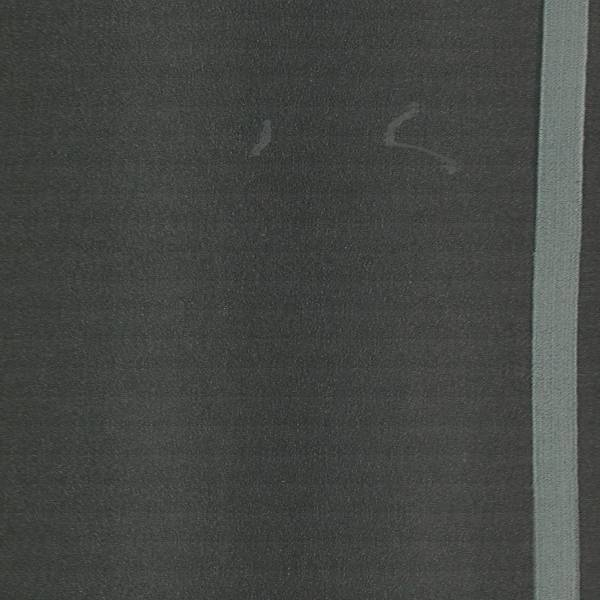road_damage: (377, 97, 463, 185), (247, 116, 277, 162)
